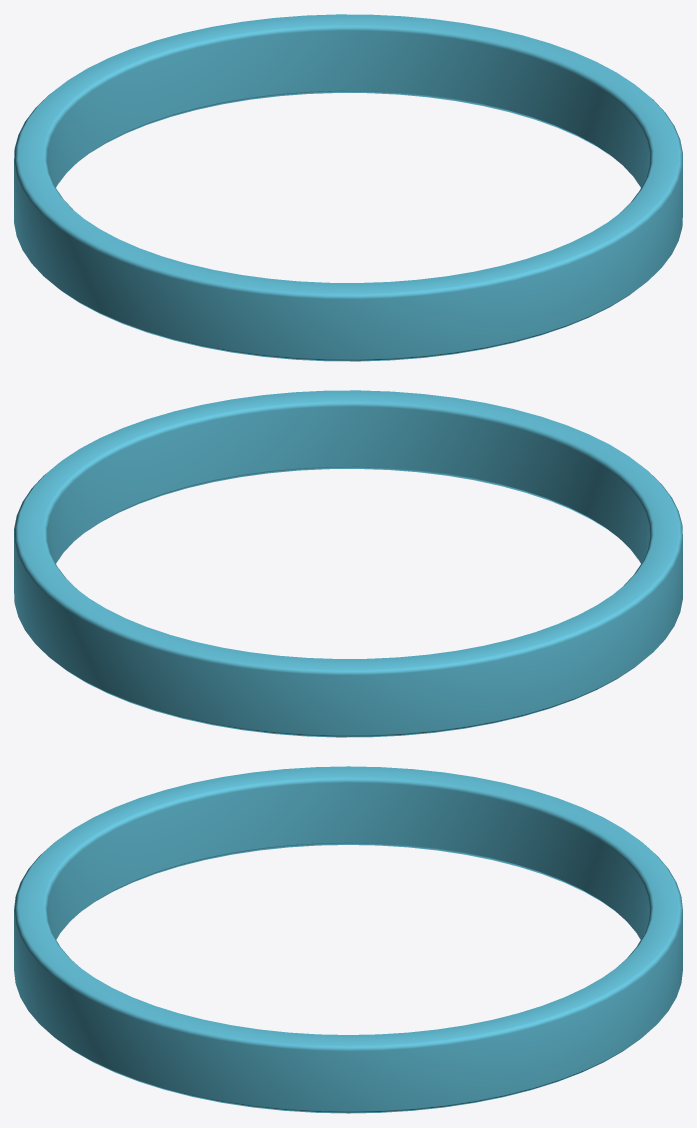
3 renders of one model, top to bottom at view 1: azimuth 30°, elevation 25°; view 2: azimuth 150°, elevation 25°; view 3: azimuth 270°, elevation 25°, orthographic.
Visible parts, largest first — view 1: seal_body; view 2: seal_body; view 3: seal_body.
Part boxes in pixels (bbox=[...]): seal_body: bbox=[14, 14, 682, 361]; seal_body: bbox=[14, 390, 682, 737]; seal_body: bbox=[14, 766, 682, 1113].
Size of the model in its own units: 0.127 by 0.0143 by 0.127.
